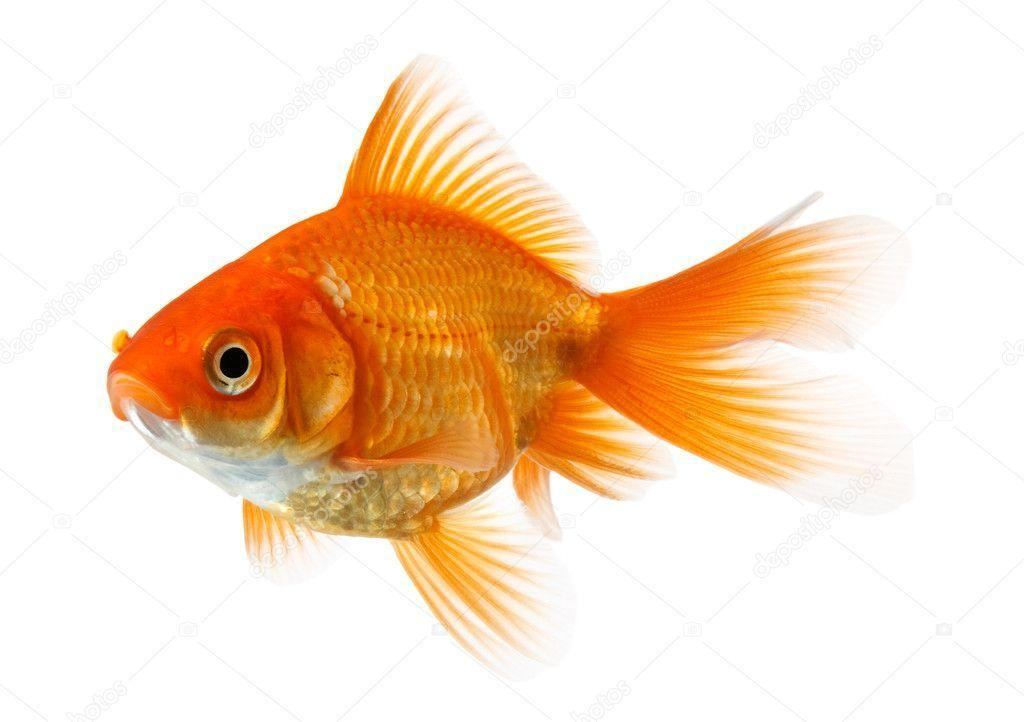Gold Fish: (107, 46, 892, 684)
